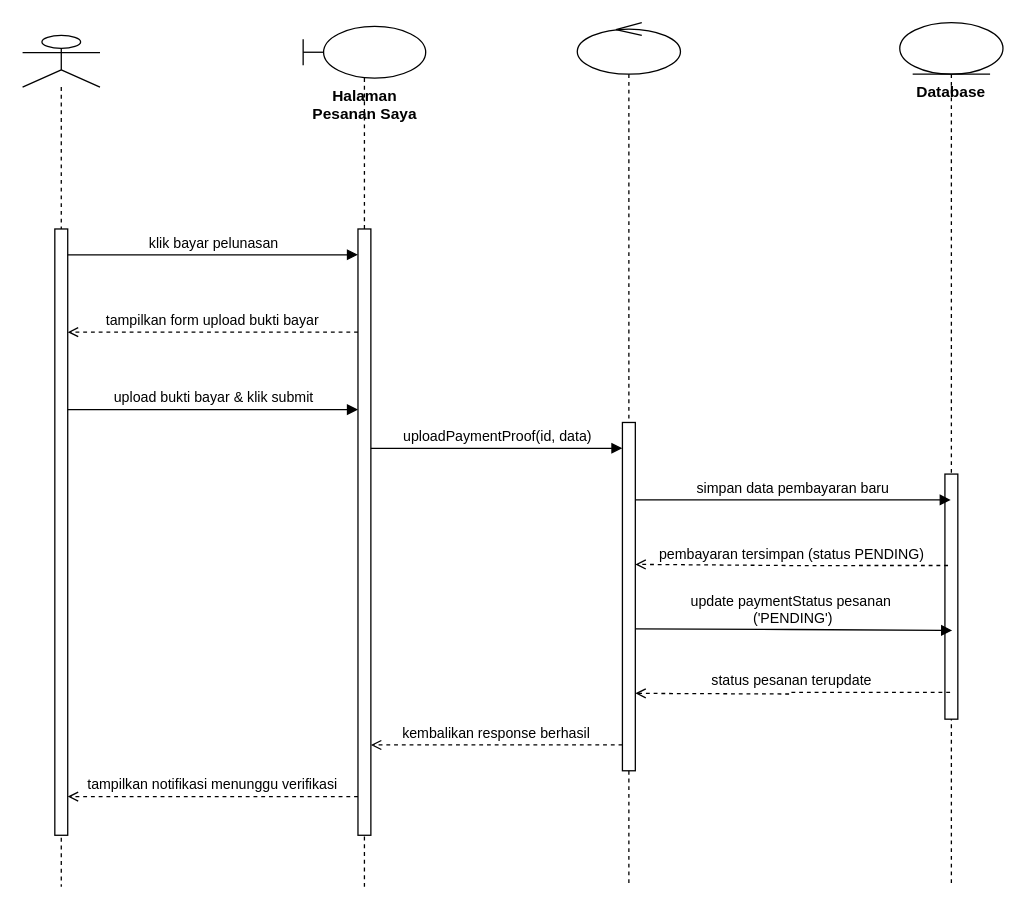
This 1026x909 diagram has some shape labels left out. Here are the shapes that lost their labels. From the top down, the box of each, then its label:
(21, 34, 100, 887): Customer
(576, 21, 680, 887): OrderController
